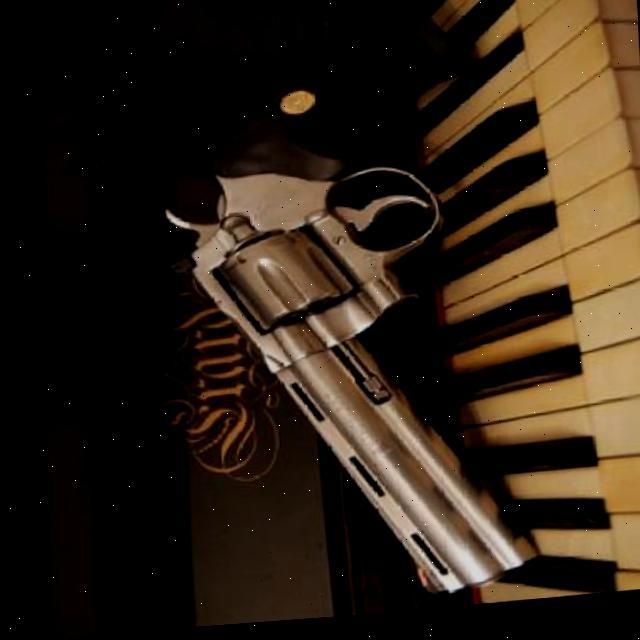gun: (152, 0, 534, 621)
